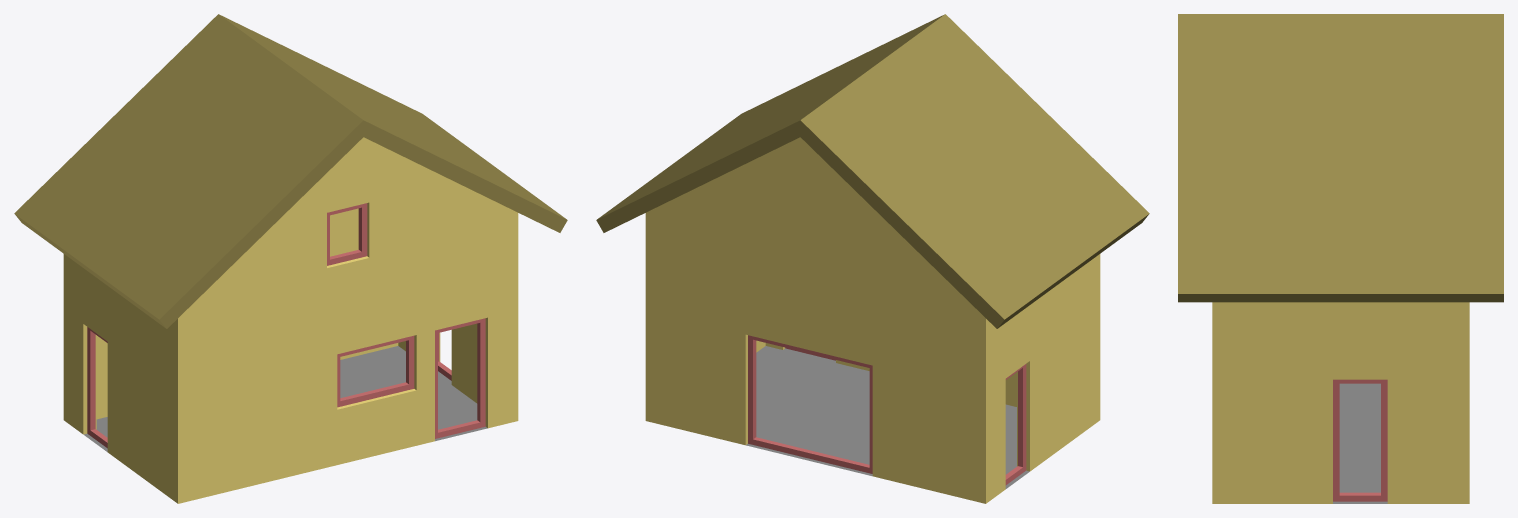
The model's file is result.glb.
The picture shows the model from 3 angles, left to right: view 1: azimuth 30°, elevation 25°; view 2: azimuth 150°, elevation 25°; view 3: azimuth 270°, elevation 25°; orthographic projection. The views are drawn at different scales.
Visible parts, largest first — view 1: 894905fd-d114-497b-9965-06037e751ded__undefined, d912edcc-96e0-453b-9784-81361c84ec4d__undefined (×2), 3a67ad20-f751-4961-9d17-121493569993__Plane_8, 353178bd-32d3-482e-8250-4b42d7629512__Box, 2ee37e3e-fb5d-4c29-ab2e-2f04f6cee76a__Box_3, 02811494-53bd-4614-91e2-d8d09086f6d4__Box_12, 0e66e4b1-4851-40a6-9b75-063e2ce4311d__Box_6; view 2: 894905fd-d114-497b-9965-06037e751ded__undefined, d912edcc-96e0-453b-9784-81361c84ec4d__undefined (×2), 3a67ad20-f751-4961-9d17-121493569993__Plane_8, b8ff6c26-c2e6-4ef5-8c36-8d5749972d2f__Box_9, 02811494-53bd-4614-91e2-d8d09086f6d4__Box_12; view 3: d912edcc-96e0-453b-9784-81361c84ec4d__undefined, 894905fd-d114-497b-9965-06037e751ded__undefined, 3a67ad20-f751-4961-9d17-121493569993__Plane_8, c1a192f9-86aa-45b7-b22a-b30124f4791b__Box_18.
Part boxes in pixels (box(x1,y1,x2,y2)): 894905fd-d114-497b-9965-06037e751ded__undefined: box(63, 137, 518, 503); d912edcc-96e0-453b-9784-81361c84ec4d__undefined (×2): box(14, 14, 567, 328); 3a67ad20-f751-4961-9d17-121493569993__Plane_8: box(84, 346, 487, 451); 353178bd-32d3-482e-8250-4b42d7629512__Box: box(435, 318, 485, 438); 2ee37e3e-fb5d-4c29-ab2e-2f04f6cee76a__Box_3: box(337, 335, 414, 407); 02811494-53bd-4614-91e2-d8d09086f6d4__Box_12: box(87, 327, 107, 448); 0e66e4b1-4851-40a6-9b75-063e2ce4311d__Box_6: box(327, 203, 367, 265); 894905fd-d114-497b-9965-06037e751ded__undefined: box(645, 137, 1100, 503); d912edcc-96e0-453b-9784-81361c84ec4d__undefined (×2): box(596, 14, 1149, 328); 3a67ad20-f751-4961-9d17-121493569993__Plane_8: box(746, 346, 1029, 488); b8ff6c26-c2e6-4ef5-8c36-8d5749972d2f__Box_9: box(748, 335, 872, 473); 02811494-53bd-4614-91e2-d8d09086f6d4__Box_12: box(1005, 364, 1026, 485); d912edcc-96e0-453b-9784-81361c84ec4d__undefined: box(1178, 14, 1503, 302); 894905fd-d114-497b-9965-06037e751ded__undefined: box(1212, 302, 1469, 503); 3a67ad20-f751-4961-9d17-121493569993__Plane_8: box(1333, 383, 1387, 503); c1a192f9-86aa-45b7-b22a-b30124f4791b__Box_18: box(1333, 379, 1387, 501).
Size of the model in its own units: 772 by 638 by 475.
